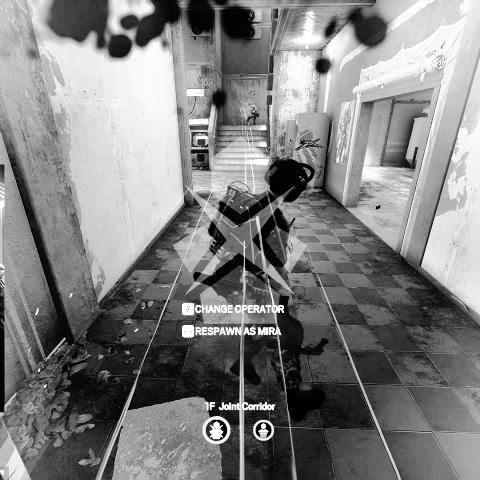Character: (193, 155, 316, 418), (244, 102, 260, 125)
Head: (264, 157, 310, 201), (248, 102, 252, 108)
